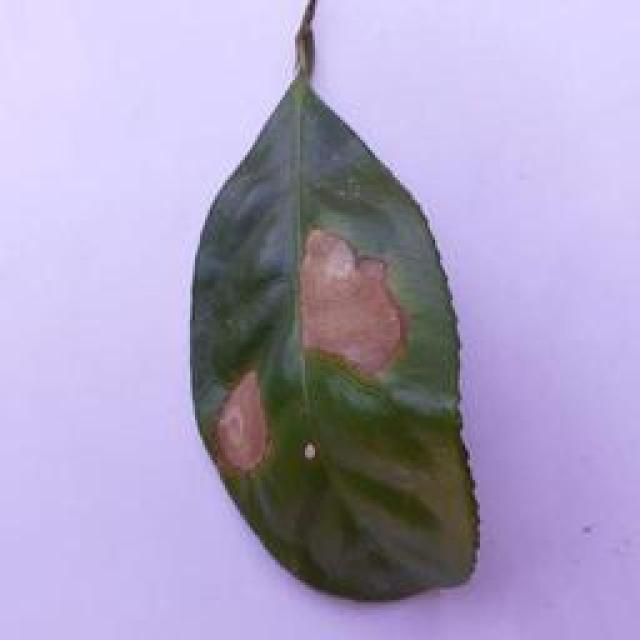Gray Blight: (178, 0, 480, 590)
